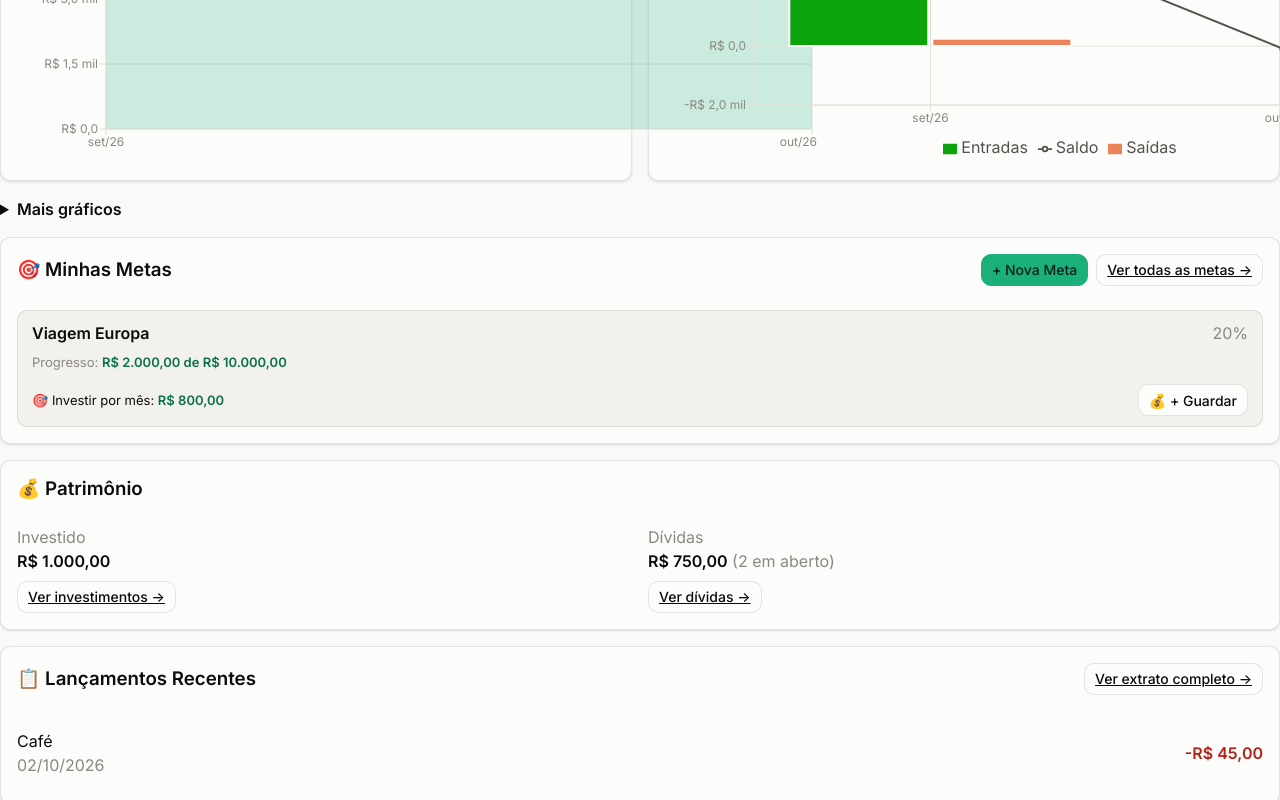
Test: DashboardPage › renders detailed goals and recent transactions and opens modals on the dashboard
This screenshot has width=1280, height=800.
(page scrolled)
Check: the text "Viagem Europa" is shown, box [32,321,150,345]
Check: the text "Café" is shown, box [17,731,52,751]
Click the button with aria-label "Guardar dinheiro na meta Viagem Europa": (1193, 400) [1138,384,1248,416]
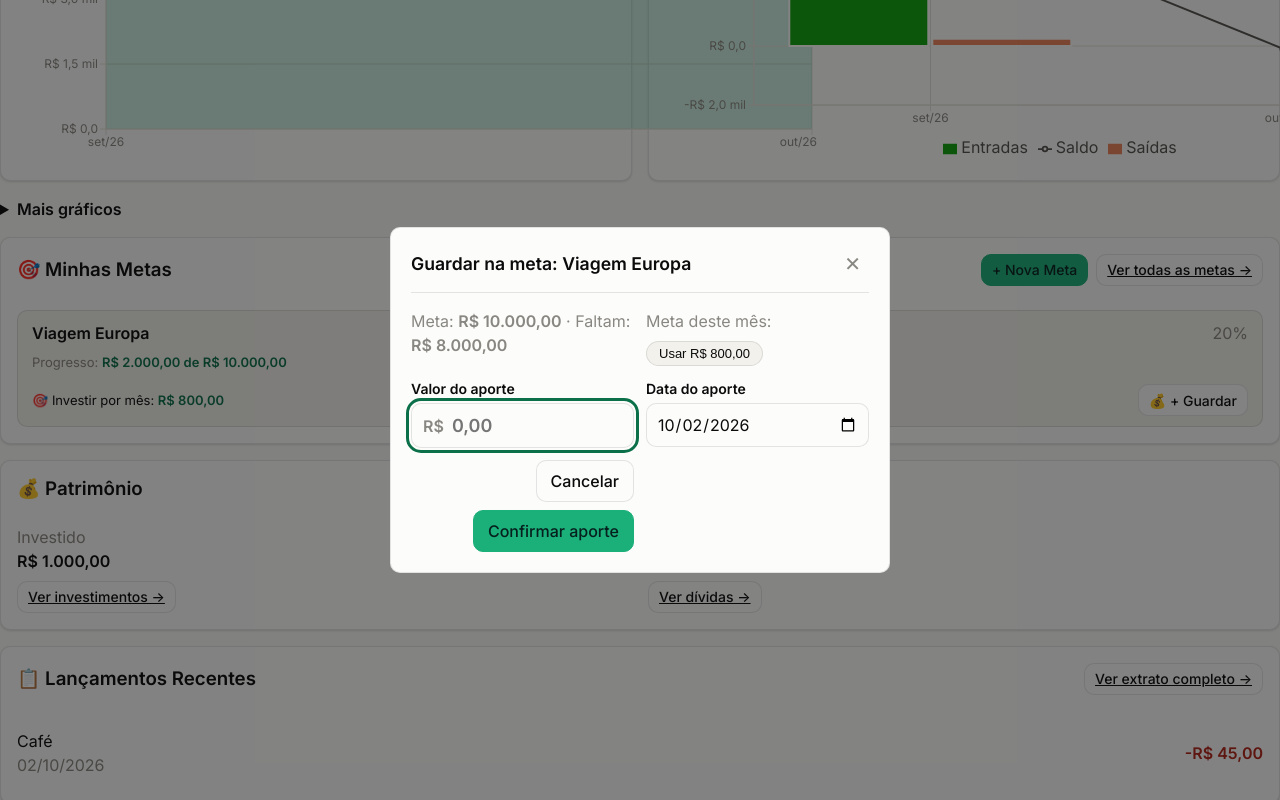
Check: the dialog "Guardar na meta: Viagem Europa" is shown, box [390,227,890,573]
